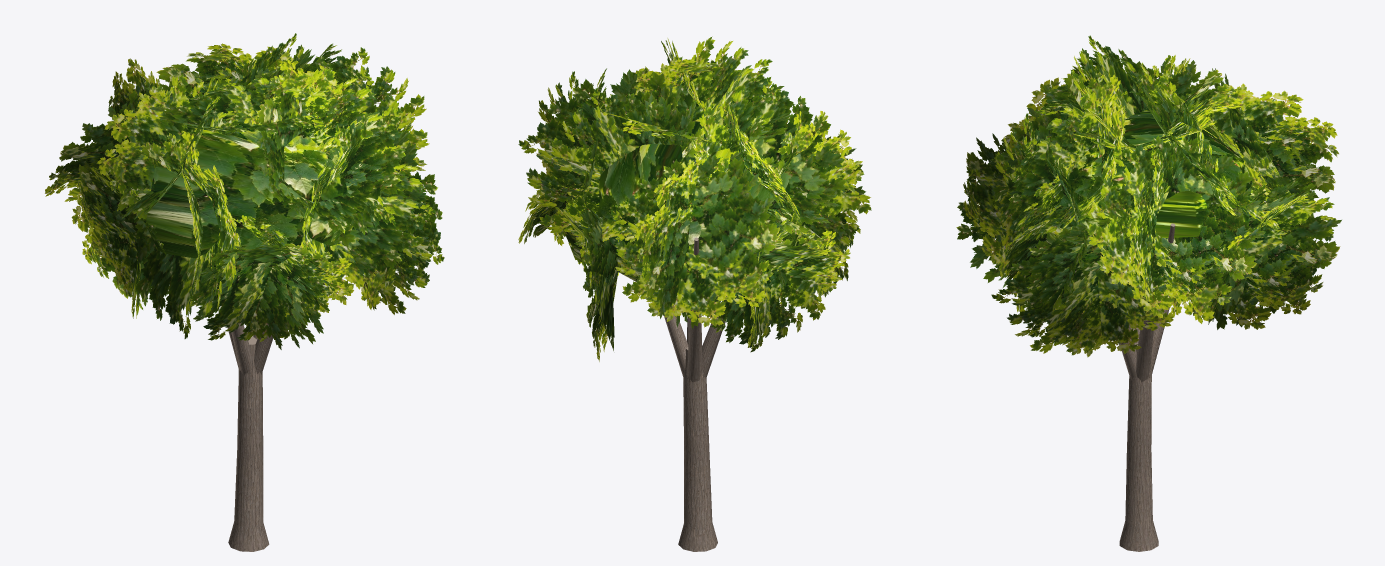
The model's file is tree_street.glb.
3 renders of one model, left to right at view 1: azimuth 30°, elevation 25°; view 2: azimuth 150°, elevation 25°; view 3: azimuth 270°, elevation 25°, orthographic. The views are drawn at different scales.
Visible parts, largest first — view 1: tree_street; view 2: tree_street; view 3: tree_street.
Boxes of the visible parts, x1,y1,x2,y2 form: tree_street: (45, 33, 444, 551); tree_street: (518, 36, 871, 551); tree_street: (956, 35, 1341, 551).
Size of the model in its own units: 5.45 by 7.12 by 5.56.
2 materials, 2 textured.
